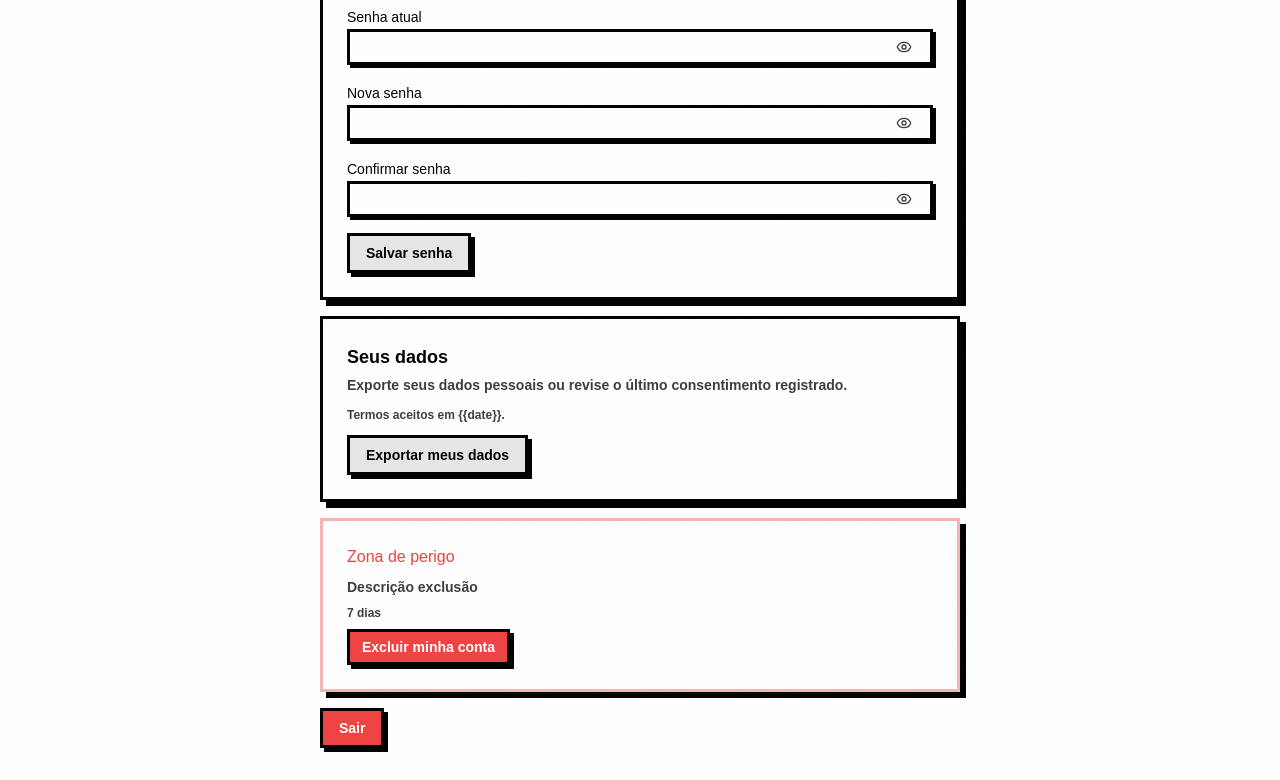
Scenario: exclusão de conta › envia senha ao solicitar exclusão de conta não-Google
(page scrolled)
Step 1. Click the button "Excluir minha conta" → (428, 647), box [347,629,510,665]
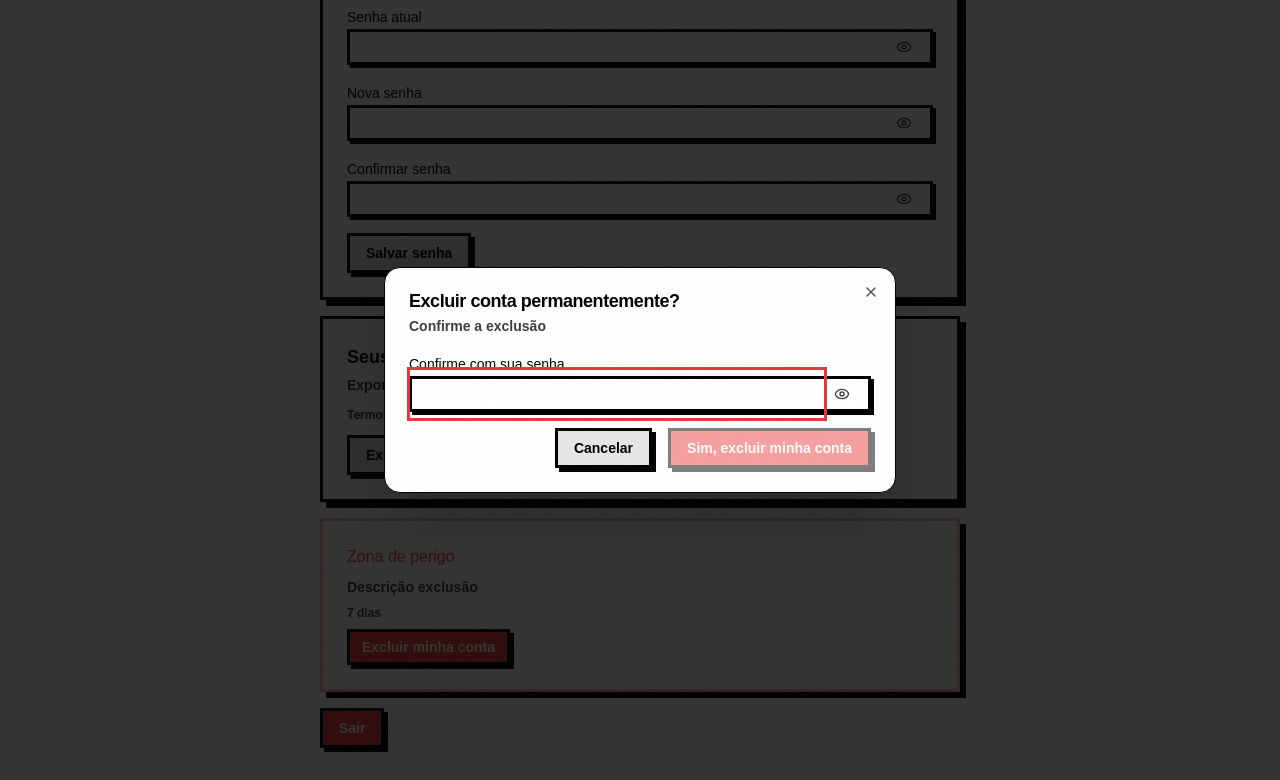
Step 2. Type "senhaAtual1!" into the password field labelled "Confirme com sua senha" → (617, 394), box [412,372,822,416]
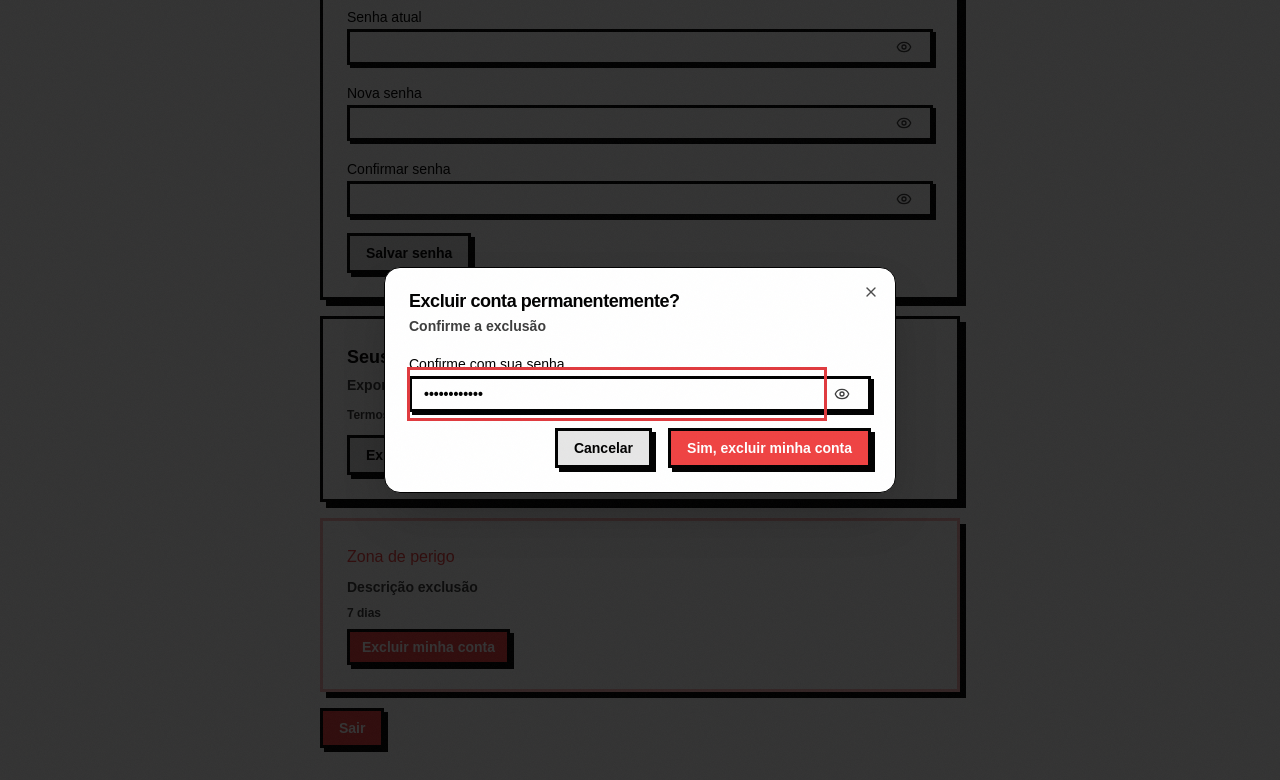
Step 3. Click the button "Sim, excluir minha conta" → (770, 448), box [668,428,871,468]
(page scrolled)
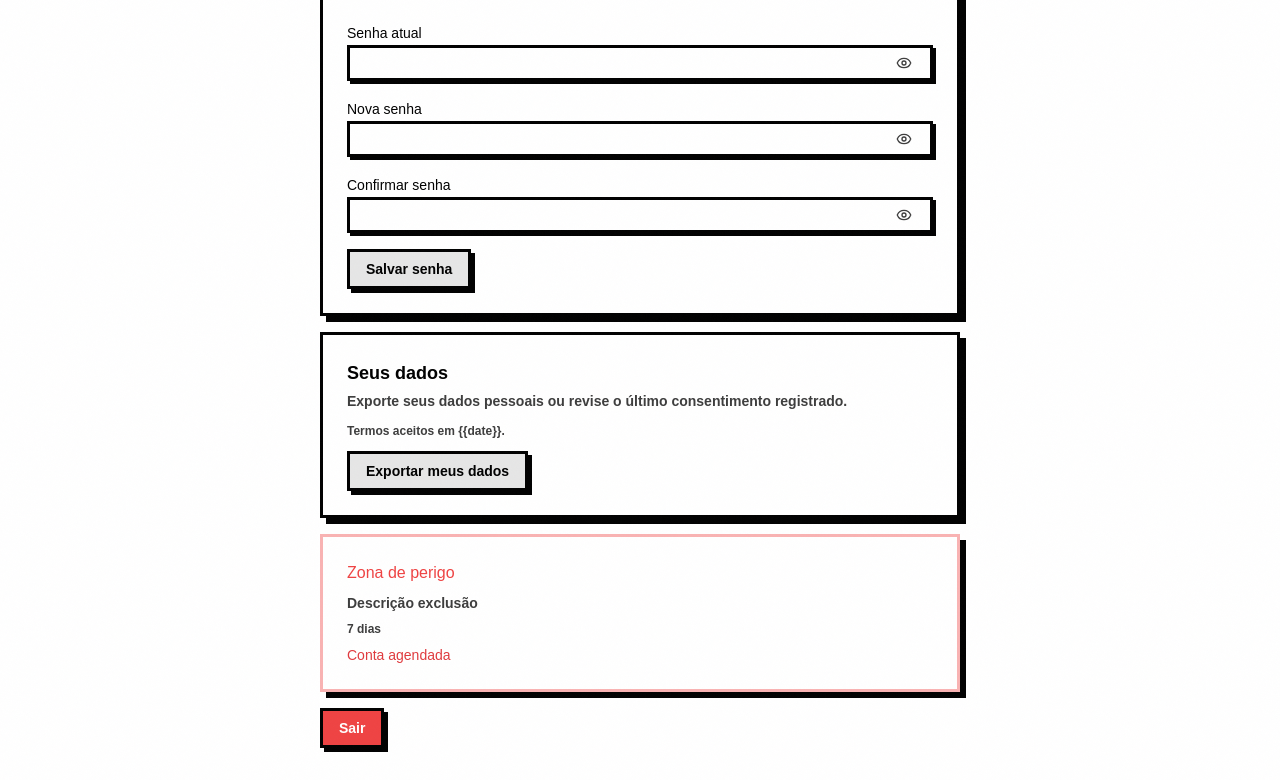
Expected: the text "Conta agendada" is shown, [347,647,450,663]
